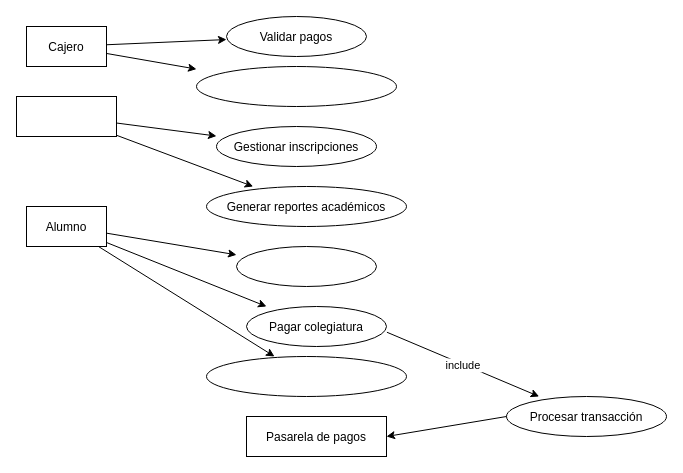
The diagram is 683 pixels wide and 473 high, and some of its shapes have lost their labels. The centre of each missing label's shape, as x and y in pixels:
Administrador: pixel 66 116
Consultar historial/comprobantes: pixel 306 376
Generar reportes financieros: pixel 296 86
Realizar inscripción: pixel 306 266
